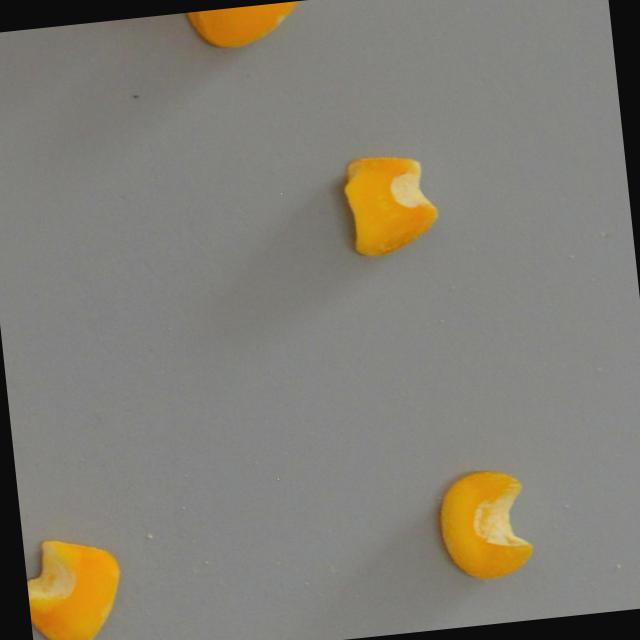dañado: (331, 144, 448, 264), (181, 0, 317, 60)
no_canjicado: (21, 526, 130, 640)
pelicula: (430, 464, 540, 586)
